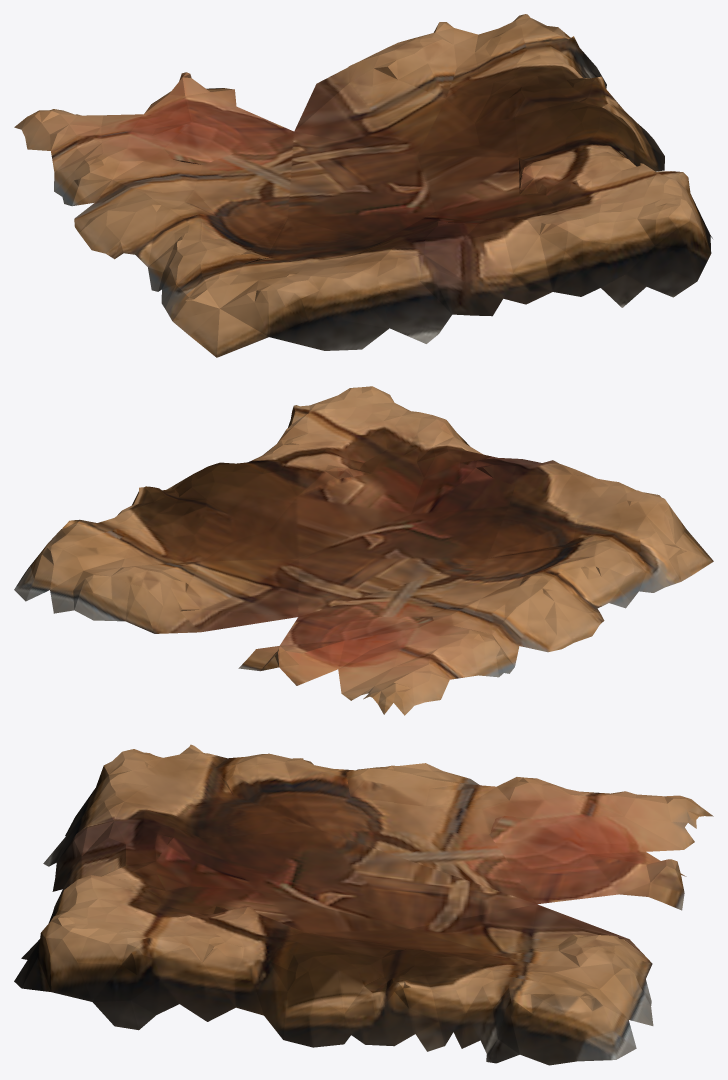
File: salvage_raft_photogrammetry_scan.glb
3 renders of one model, top to bottom at view 1: azimuth 30°, elevation 25°; view 2: azimuth 150°, elevation 25°; view 3: azimuth 270°, elevation 25°, orthographic. The views are drawn at different scales.
Visible parts, largest first — view 1: texturedMesh; view 2: texturedMesh; view 3: texturedMesh.
Part boxes in pixels (bbox=[...]): texturedMesh: bbox=[14, 14, 712, 357]; texturedMesh: bbox=[14, 386, 713, 715]; texturedMesh: bbox=[14, 744, 713, 1065].
Bounding box in the file's own units: 2.36 × 0.2835 × 2.4.
1 material, 1 textured.
